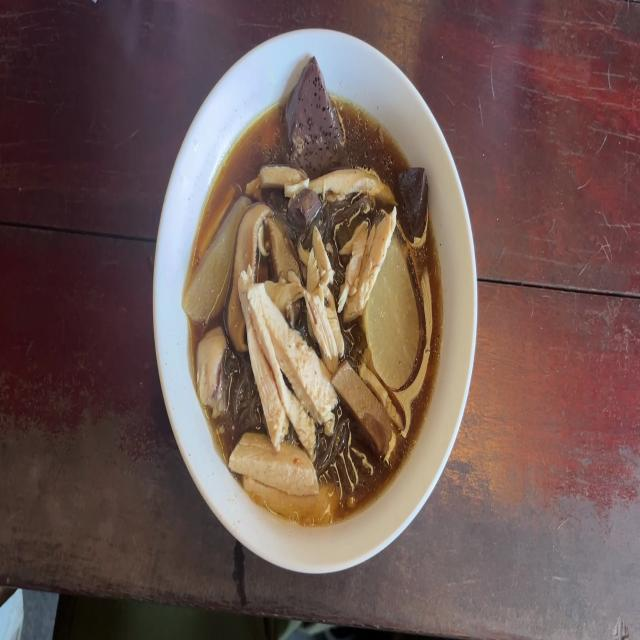noodle: (288, 61, 338, 166), (394, 154, 429, 234), (292, 192, 318, 232)
